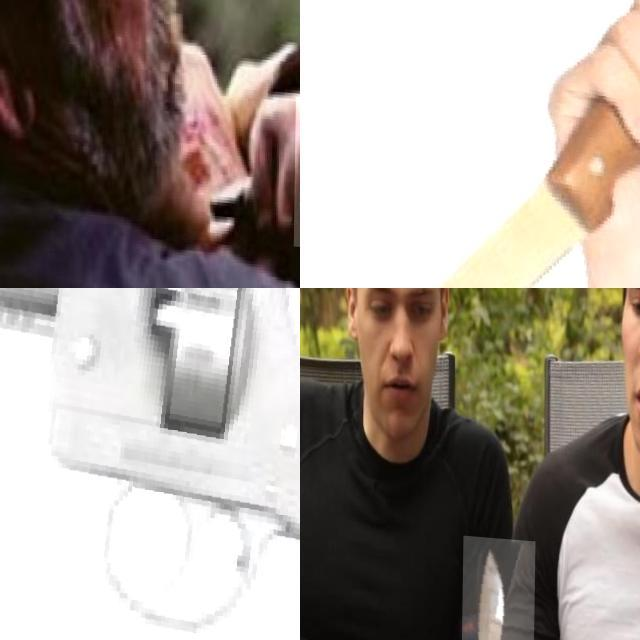-: (300, 0, 640, 288), (462, 530, 536, 640)
gun-knife-thesis - v11 Yolov5 augmented: (0, 288, 300, 640)
